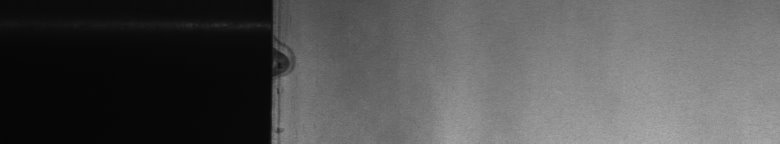hb: (284, 42, 303, 83)
